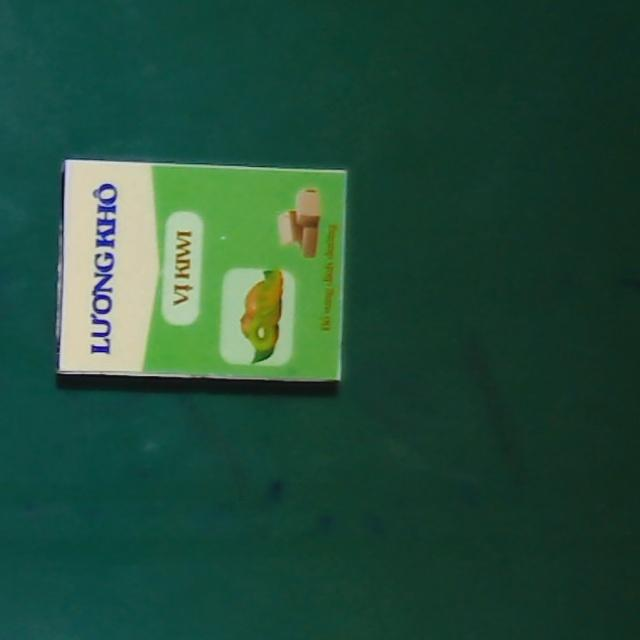kiwi: (55, 159, 346, 381)
